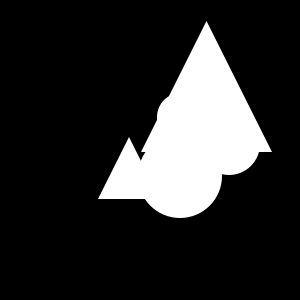rectangle: (138, 134, 222, 218), (198, 113, 260, 175), (157, 93, 205, 141)
triangle: (141, 21, 272, 152), (98, 137, 160, 199)
